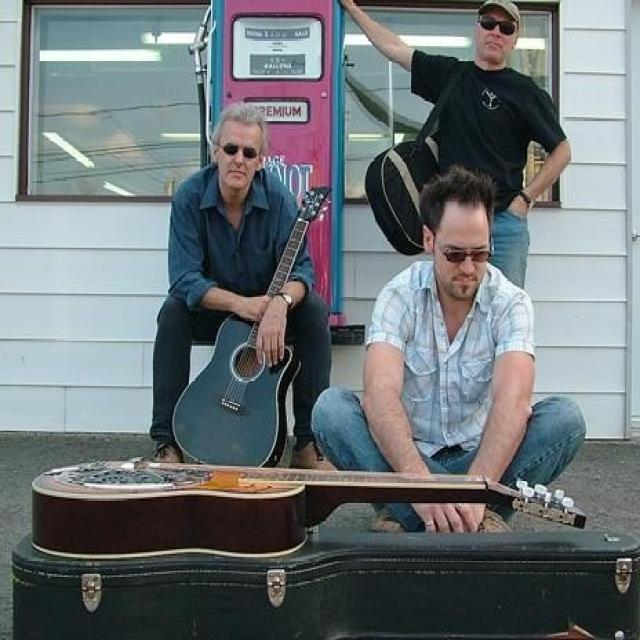guitar: (26, 454, 589, 564), (168, 182, 334, 467)
